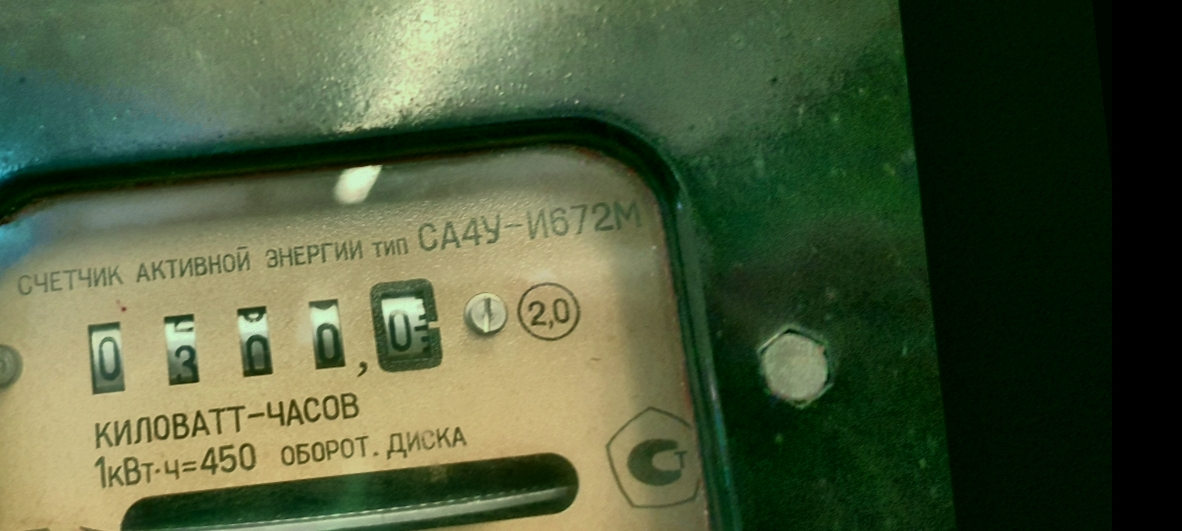0: (383, 305, 416, 357), (93, 331, 124, 385), (240, 329, 272, 380), (310, 320, 344, 368)
3: (168, 340, 201, 386)
screen: (63, 270, 453, 416)
